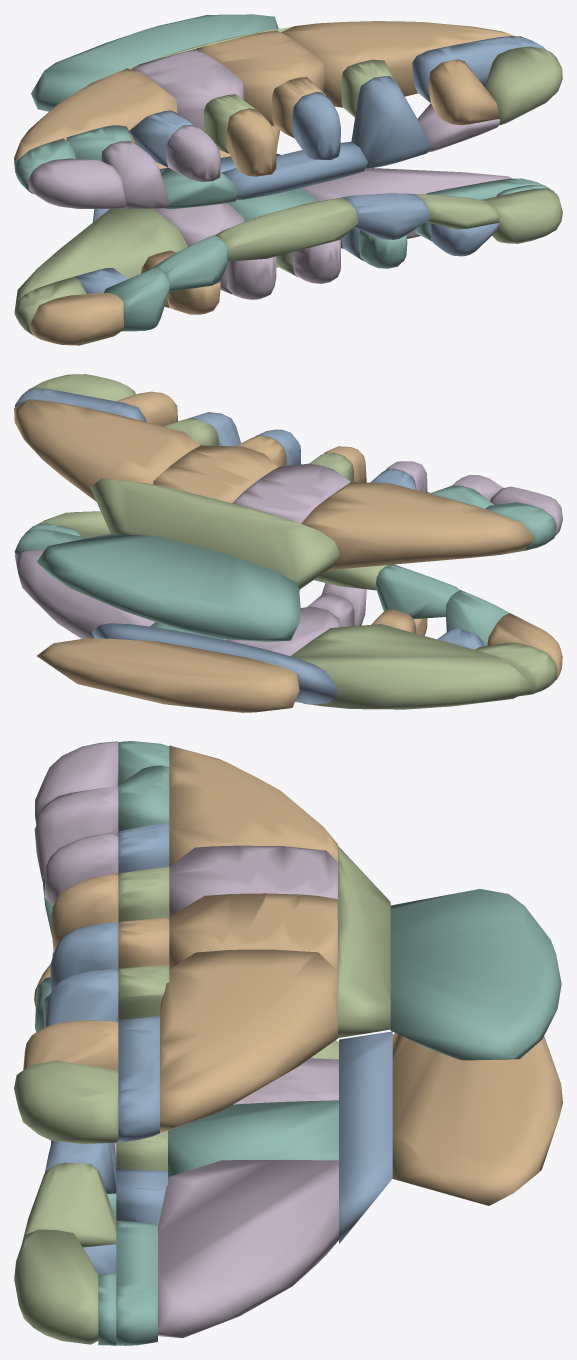
3 renders of one model, top to bottom at view 1: azimuth 30°, elevation 25°; view 2: azimuth 150°, elevation 25°; view 3: azimuth 270°, elevation 25°, orthographic. The views are drawn at different scales.
Size of the model in its own units: 1.78 by 0.6201 by 1.11.
